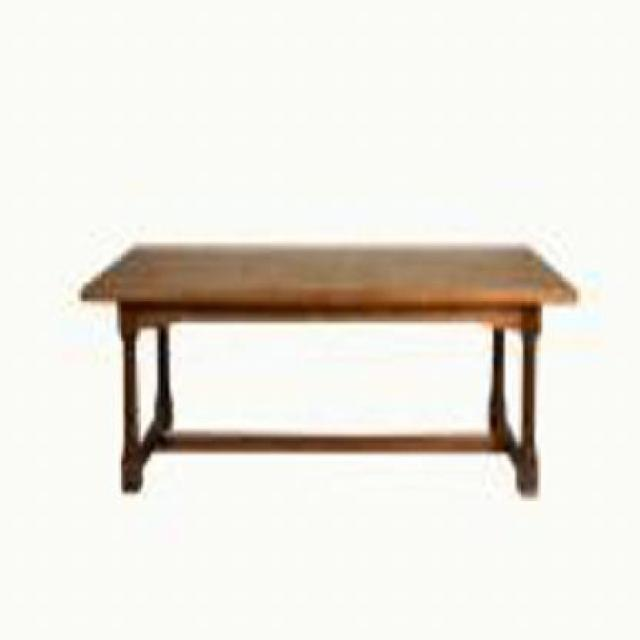tables: (77, 238, 578, 498)
